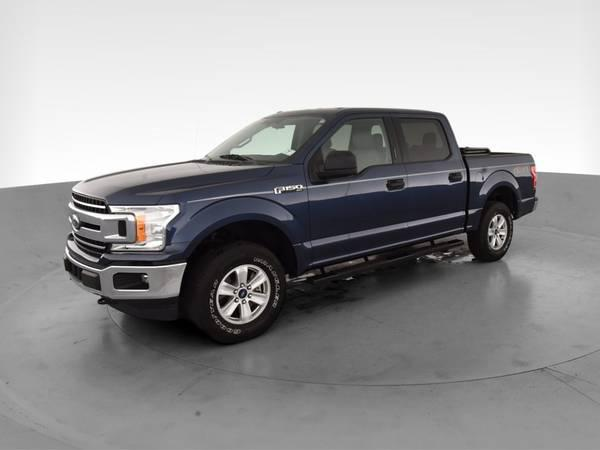Front_Bumper: (64, 234, 195, 315)
Front_Fender: (155, 160, 311, 274)
Front_Left_Door: (304, 161, 410, 264)
Front_Left_Window: (306, 114, 401, 172)
Front_Windshield: (202, 116, 326, 164)
Grille: (67, 188, 136, 252)
Hood: (74, 158, 274, 205)
Left_Headlight: (109, 202, 181, 249)
Rear_Fender: (466, 153, 537, 234)
Rear_Left_Door: (405, 160, 468, 245)
Rear_Left_Window: (391, 117, 452, 164)
Roof: (267, 107, 466, 162)
Wheel: (195, 244, 293, 343), (466, 200, 517, 262)
